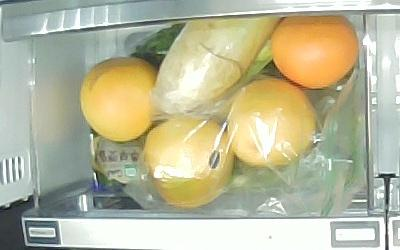grapefruit: (80, 57, 158, 141), (271, 16, 358, 88)
grapefruit_vinyl: (145, 117, 234, 207), (228, 78, 317, 166)
